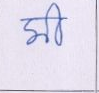i_matra: (49, 2, 65, 46)
